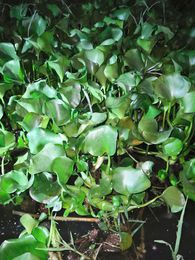water_hyacinth: (1, 8, 195, 218)
